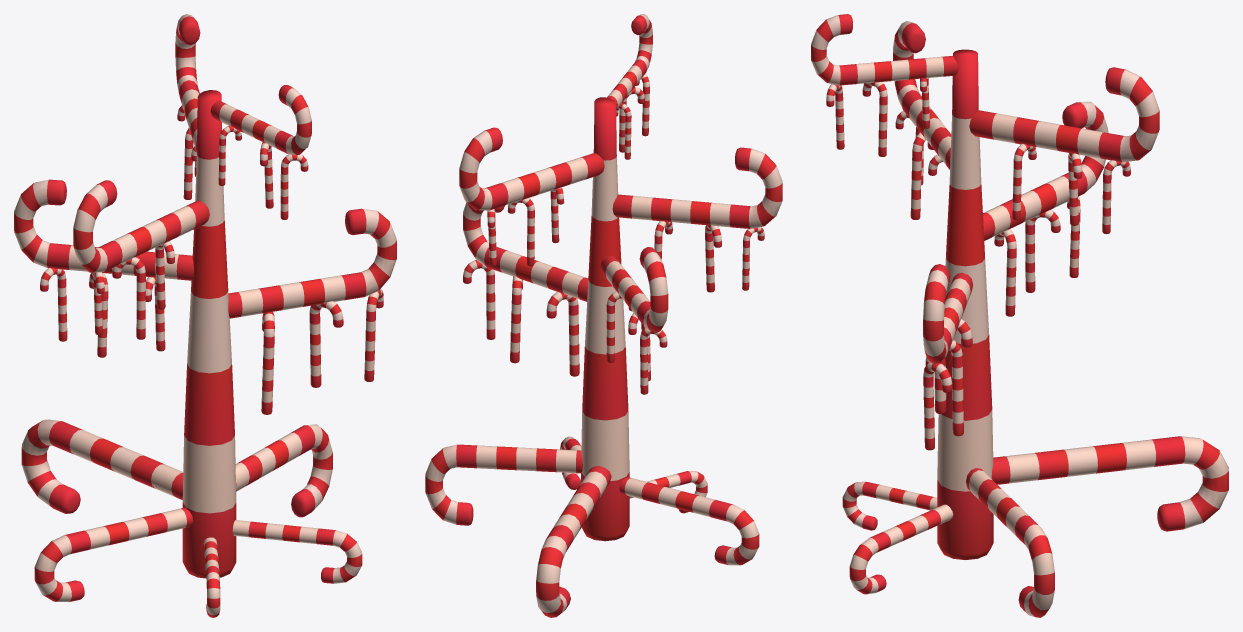
The model's file is cw_tree_9.fbx.
3 views of the same model, side by side, from view 1: azimuth 30°, elevation 25°; view 2: azimuth 150°, elevation 25°; view 3: azimuth 270°, elevation 25° (orthographic). The views are drawn at different scales.
Visible parts, largest first — view 1: cw_t_9; view 2: cw_t_9; view 3: cw_t_9.
Part boxes in pixels (x1=…): cw_t_9: x1=14, y1=14, x2=396, y2=617; cw_t_9: x1=425, y1=14, x2=782, y2=617; cw_t_9: x1=811, y1=14, x2=1228, y2=617.
Bounding box in the file's own units: 152 × 223 × 154.
